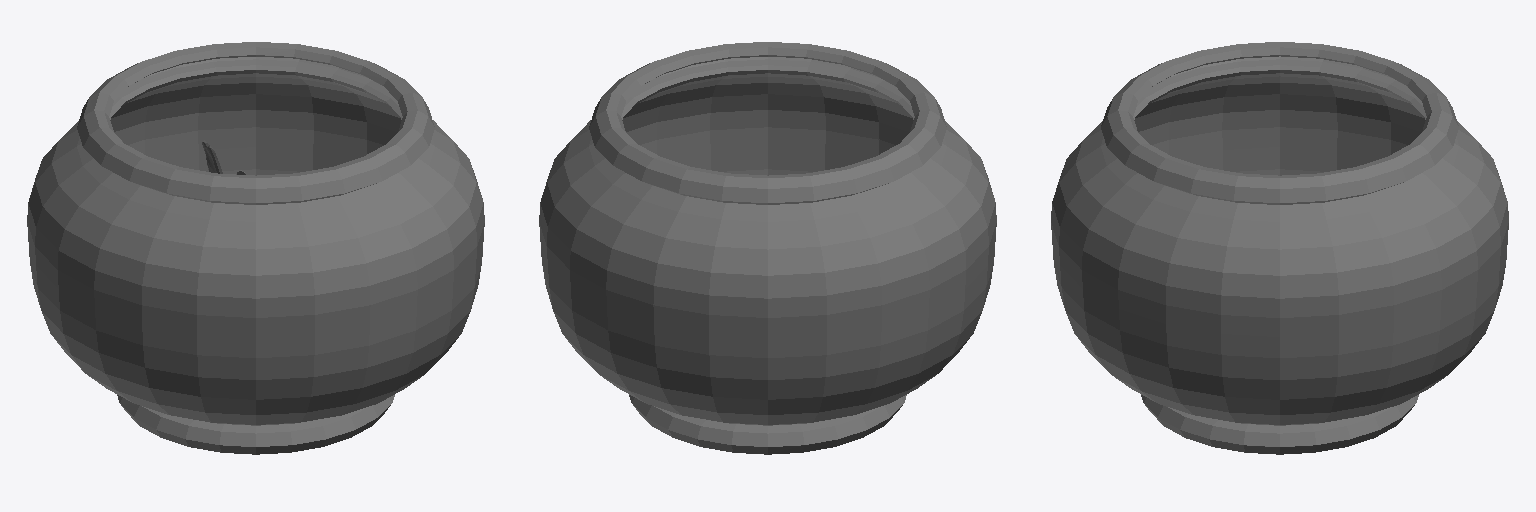
File: FishAndBowlAndCastle.obj
The picture shows the model from 3 angles: view 1: azimuth 30°, elevation 25°; view 2: azimuth 150°, elevation 25°; view 3: azimuth 270°, elevation 25°; orthographic projection.
Visible parts, largest first — view 1: FishBowl; view 2: FishBowl; view 3: FishBowl.
Boxes of the visible parts, <box> form: FishBowl: <box>27,42,484,454</box>; FishBowl: <box>539,42,996,454</box>; FishBowl: <box>1051,42,1508,454</box>.
Size of the model in its own units: 30.65 by 21.54 by 30.65.